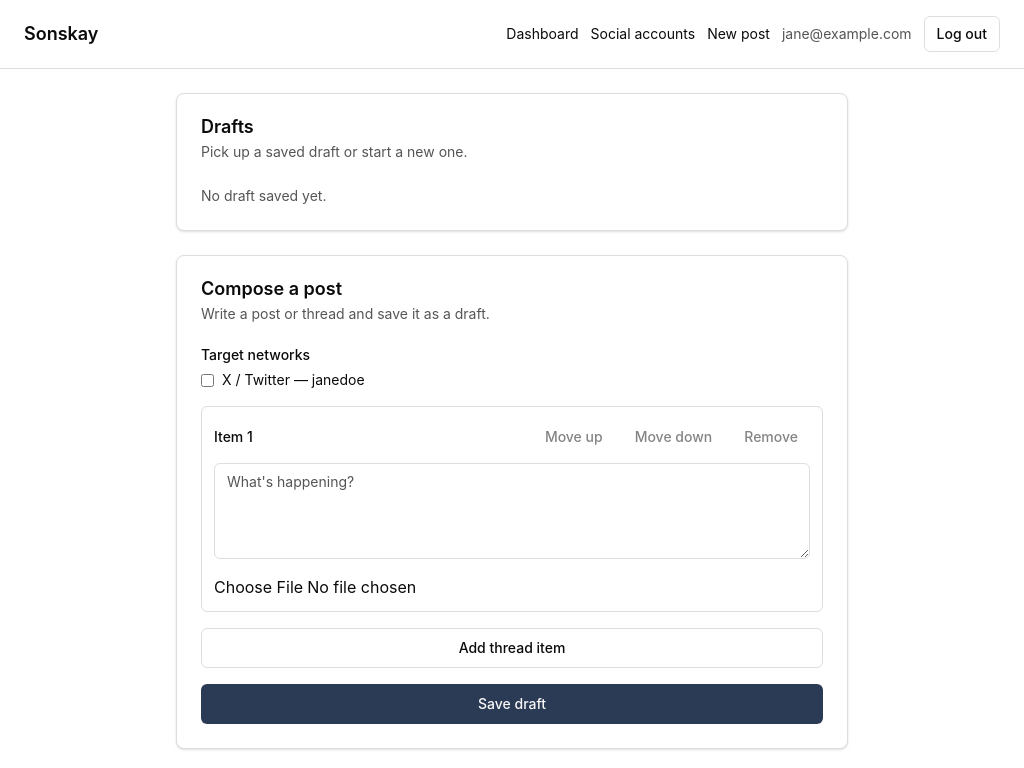
Test: post composer page › shows the character limit for the selected network
This screenshot has width=1024, height=768.
Click the checkbox at point(208, 380), box [201, 374, 214, 386]
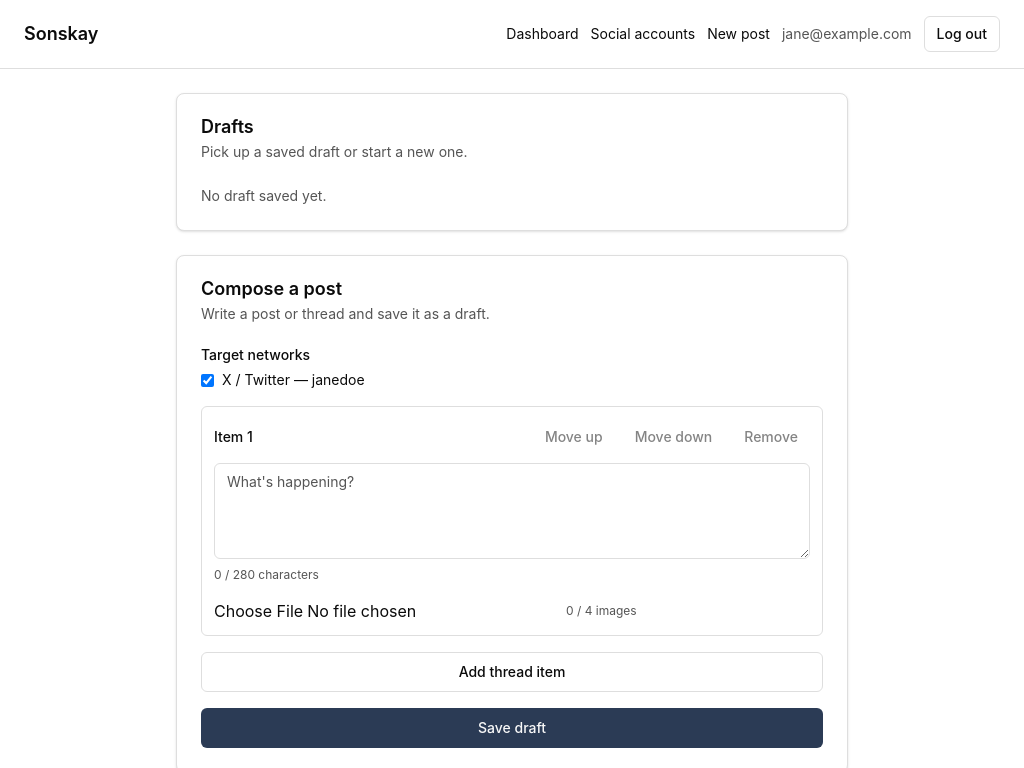
Expected: the text "0 / 280 characters" is shown, [214, 567, 319, 582]
